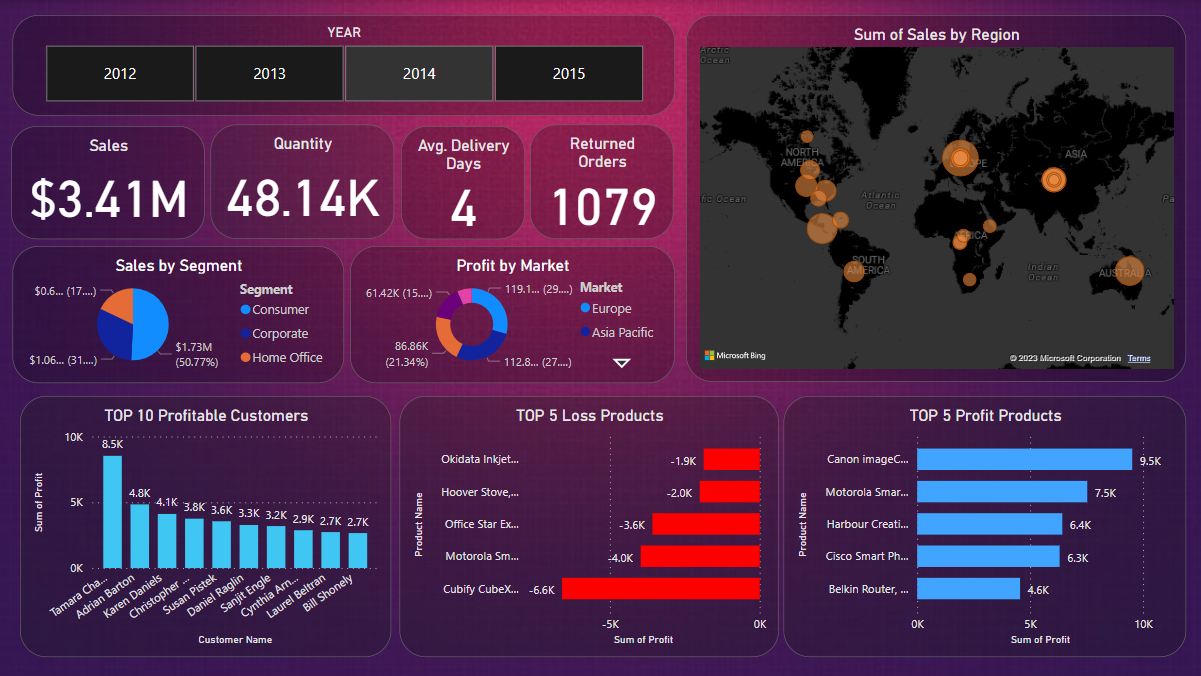

What the dashboard file says about the page in this screenshot:
{"tool":"powerbi","page":{"name":"Page 1","canvas":[1280,720],"ordinal":0},"visuals":[{"type":"card","title":"Sales","fields":{"Values":["Orders.Sales"]},"box":[13.3,133.3,205.6,120],"z":0},{"type":"card","title":"Quantity","fields":{"Values":["Orders.Quantity"]},"box":[224.4,132.2,194.4,121.1],"z":1000},{"type":"card","title":"Avg. Delivery Days","fields":{"Values":["Orders.Delivery Days"]},"box":[425.6,133.3,131.1,120],"z":2000},{"type":"slicer","title":"YEAR","fields":{"Values":["Orders.Year"]},"box":[15,16.7,701.7,106.7],"z":3000},{"type":"card","title":"Returned Orders","fields":{"Values":["Returns.Return Orders"]},"box":[563.3,132.2,152.2,121.1],"z":4000},{"type":"map","fields":{"Category":["Orders.Region"],"Size":["Orders.Sales"]},"box":[728.3,16.7,530,388.3],"z":5000},{"type":"clusteredBarChart","title":"TOP 5 Profit Products","fields":{"Y":["Orders.Profit"],"Category":["Orders.Product Name"]},"box":[831.7,420,426.7,276.7],"z":6000},{"type":"clusteredBarChart","title":"TOP 5 Loss Products","fields":{"Y":["Orders.Profit"],"Category":["Orders.Product Name"]},"box":[425,420,401.7,276.7],"z":7000},{"type":"pieChart","title":"Sales by Segment","fields":{"Category":["Orders.Segment"],"Y":["Orders.Sales"]},"box":[15,260,351.2,145],"z":8000},{"type":"donutChart","title":"Profit by Market","fields":{"Y":["Orders.Profit"],"Category":["Orders.Market"]},"box":[371.2,260,343.8,145],"z":9000},{"type":"columnChart","title":"TOP 10 Profitable Customers","fields":{"Category":["Orders.Customer Name"],"Y":["Orders.Profit"]},"box":[21.7,420,393.3,276.7],"z":11000}]}

Visuals, with their boxes in screenshot pixels (x1, y1, x2, y2), scaled from the page's 1280x720 canvas onto the 1201x676 screenshot:
"Sales" card: l=12, t=125, r=205, b=238
"Quantity" card: l=211, t=124, r=393, b=238
"Avg. Delivery Days" card: l=399, t=125, r=522, b=238
"YEAR" slicer: l=14, t=16, r=672, b=116
"Returned Orders" card: l=529, t=124, r=671, b=238
map - Orders.Region x Orders.Sales: l=683, t=16, r=1181, b=380
"TOP 5 Profit Products" clusteredBarChart: l=780, t=394, r=1181, b=654
"TOP 5 Loss Products" clusteredBarChart: l=399, t=394, r=776, b=654
"Sales by Segment" pieChart: l=14, t=244, r=344, b=380
"Profit by Market" donutChart: l=348, t=244, r=671, b=380
"TOP 10 Profitable Customers" columnChart: l=20, t=394, r=389, b=654
